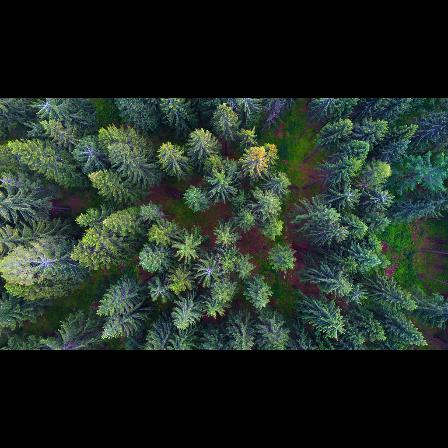Sick: (192, 257, 224, 290)
